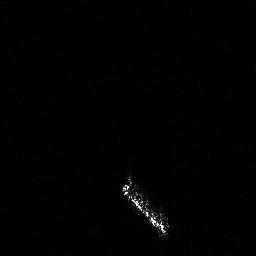ship: (118, 174, 173, 241)
